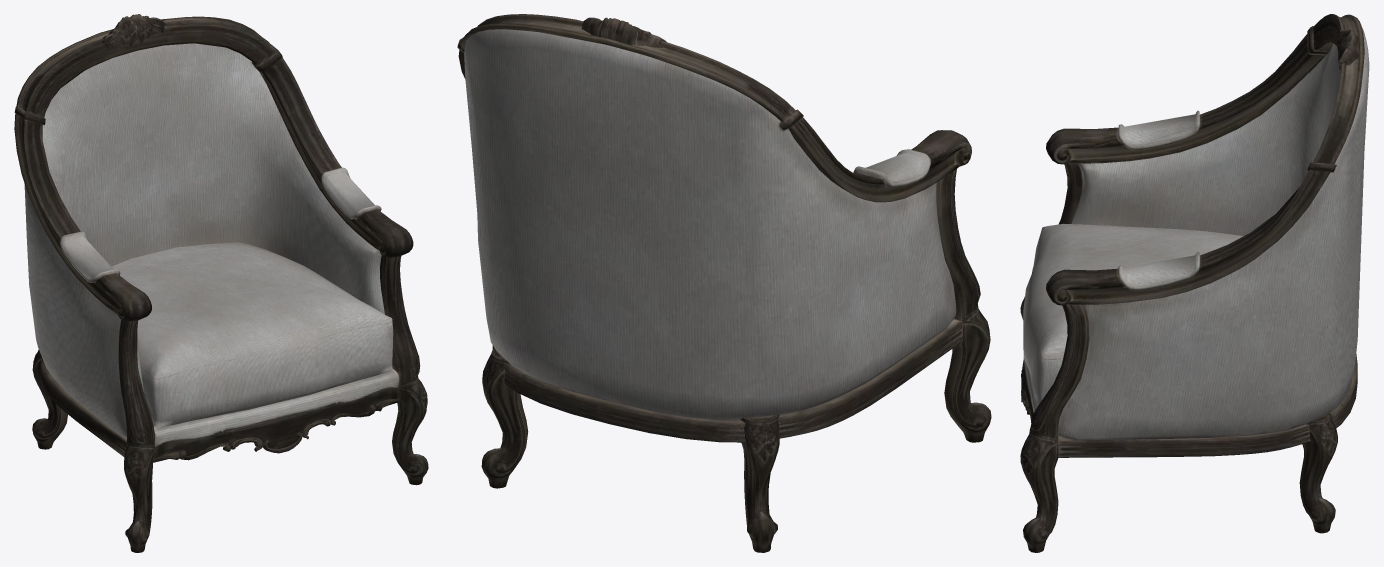
Rendered from ArmChair_01.glb.
3 renders of one model, left to right at view 1: azimuth 30°, elevation 25°; view 2: azimuth 150°, elevation 25°; view 3: azimuth 270°, elevation 25°, orthographic. The views are drawn at different scales.
Visible parts, largest first — view 1: ArmChair_01; view 2: ArmChair_01; view 3: ArmChair_01.
Part boxes in pixels (x1,y1,x2,y2): ArmChair_01: [14, 14, 428, 552]; ArmChair_01: [457, 14, 991, 552]; ArmChair_01: [1020, 14, 1369, 552].
Bounding box in the file's own units: 0.8485 × 1.07 × 0.7658.
Materials: 1 (1 with a texture image).
